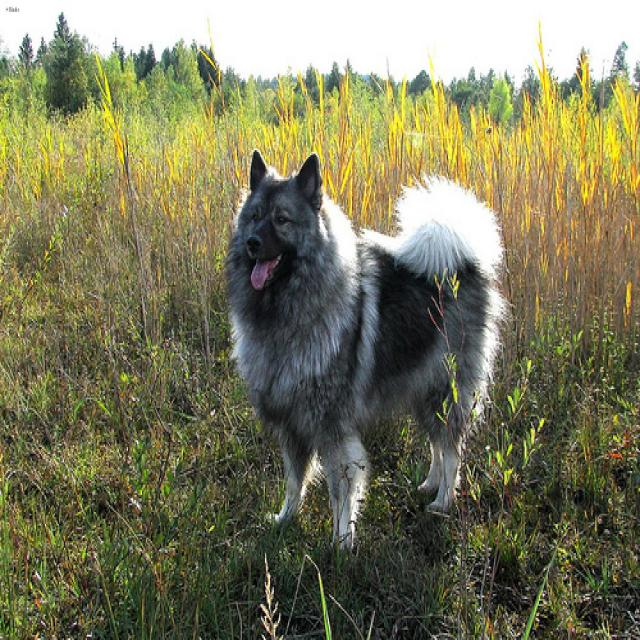dog-keeshond: (216, 142, 509, 558)
